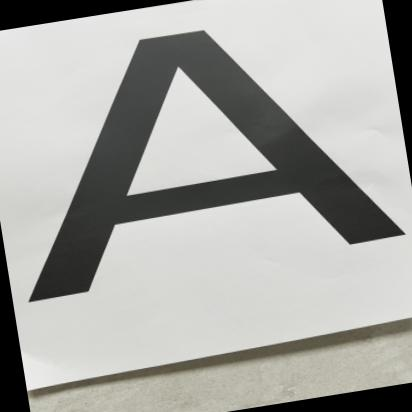seat: (0, 0, 412, 300)
